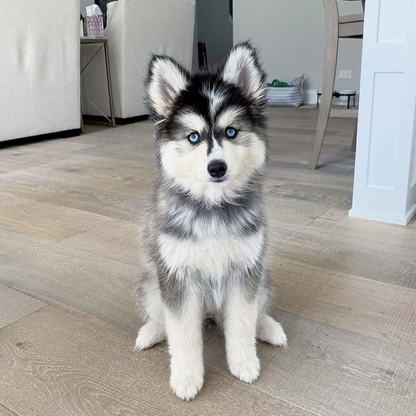husky: (128, 37, 290, 400)
